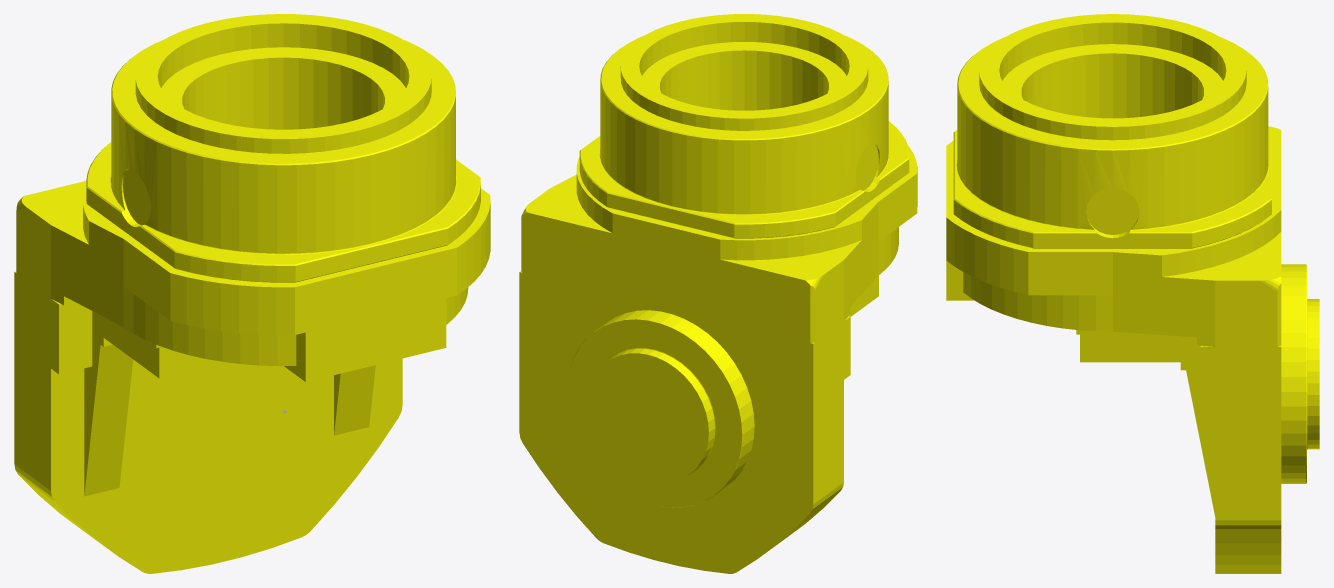
3 views of the same model, side by side, from view 1: azimuth 30°, elevation 25°; view 2: azimuth 150°, elevation 25°; view 3: azimuth 270°, elevation 25° (orthographic). The views are drawn at different scales.
Visible parts, largest first — view 1: node; view 2: node; view 3: node.
Part boxes in pixels (x1,y1,x2,y2): node: (14,14,490,573); node: (519,14,917,573); node: (946,14,1319,573).
Bounding box in the file's own units: 100 × 143 × 102.
